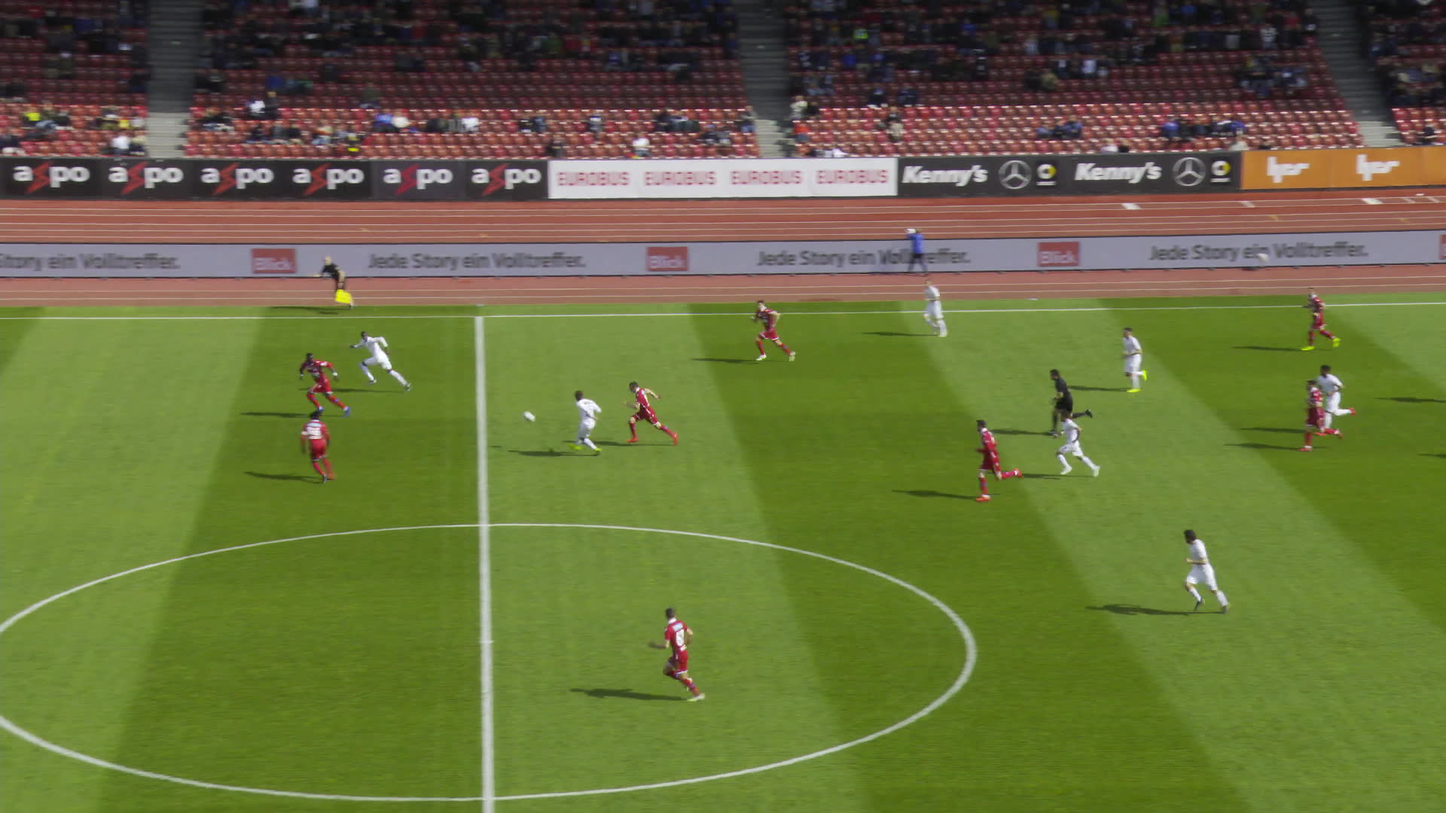ball: (522, 410, 535, 421)
player: (648, 606, 708, 703), (1171, 531, 1222, 617), (966, 419, 1008, 499), (290, 411, 336, 482), (295, 353, 344, 419), (624, 383, 670, 449), (1048, 413, 1092, 480), (355, 333, 402, 392), (1109, 324, 1149, 391), (745, 300, 785, 366), (1310, 365, 1346, 434), (1294, 381, 1329, 449), (1295, 287, 1329, 353), (566, 391, 596, 458), (912, 279, 942, 339)
referee: (304, 254, 355, 310), (1039, 369, 1081, 428)
